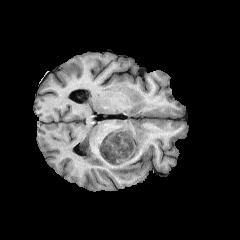glioma: (79, 120, 148, 179)
